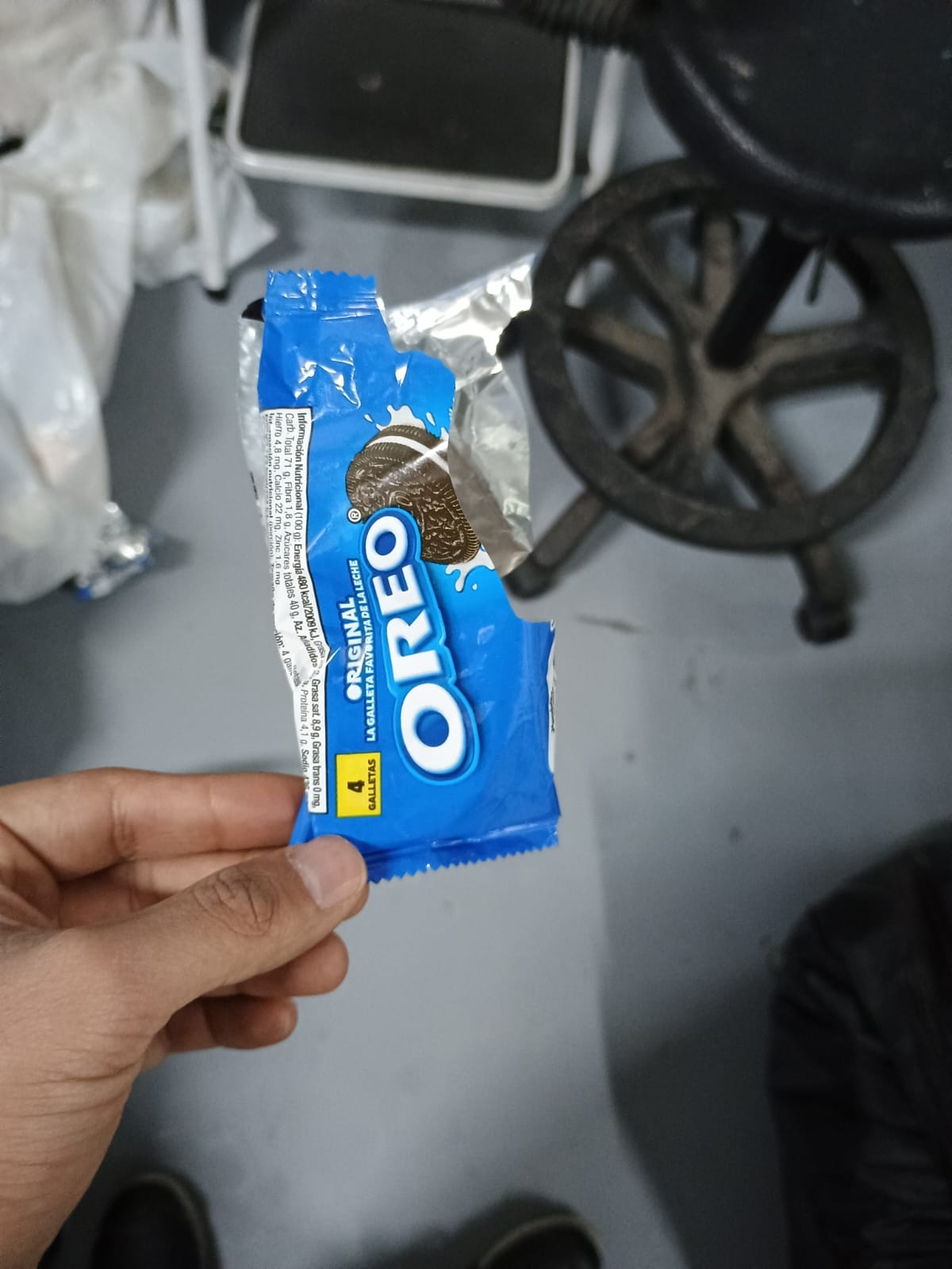Ordinario: (234, 250, 559, 883)
